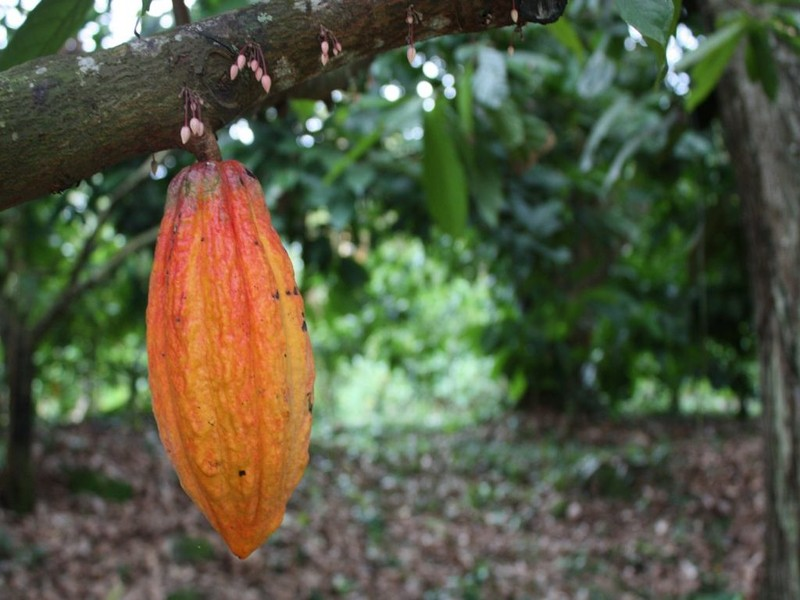Cacaopod: (142, 158, 326, 562)
